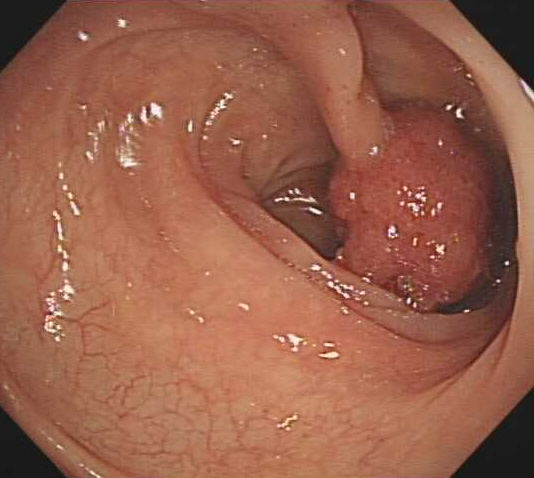adenoma: (326, 103, 500, 313)
